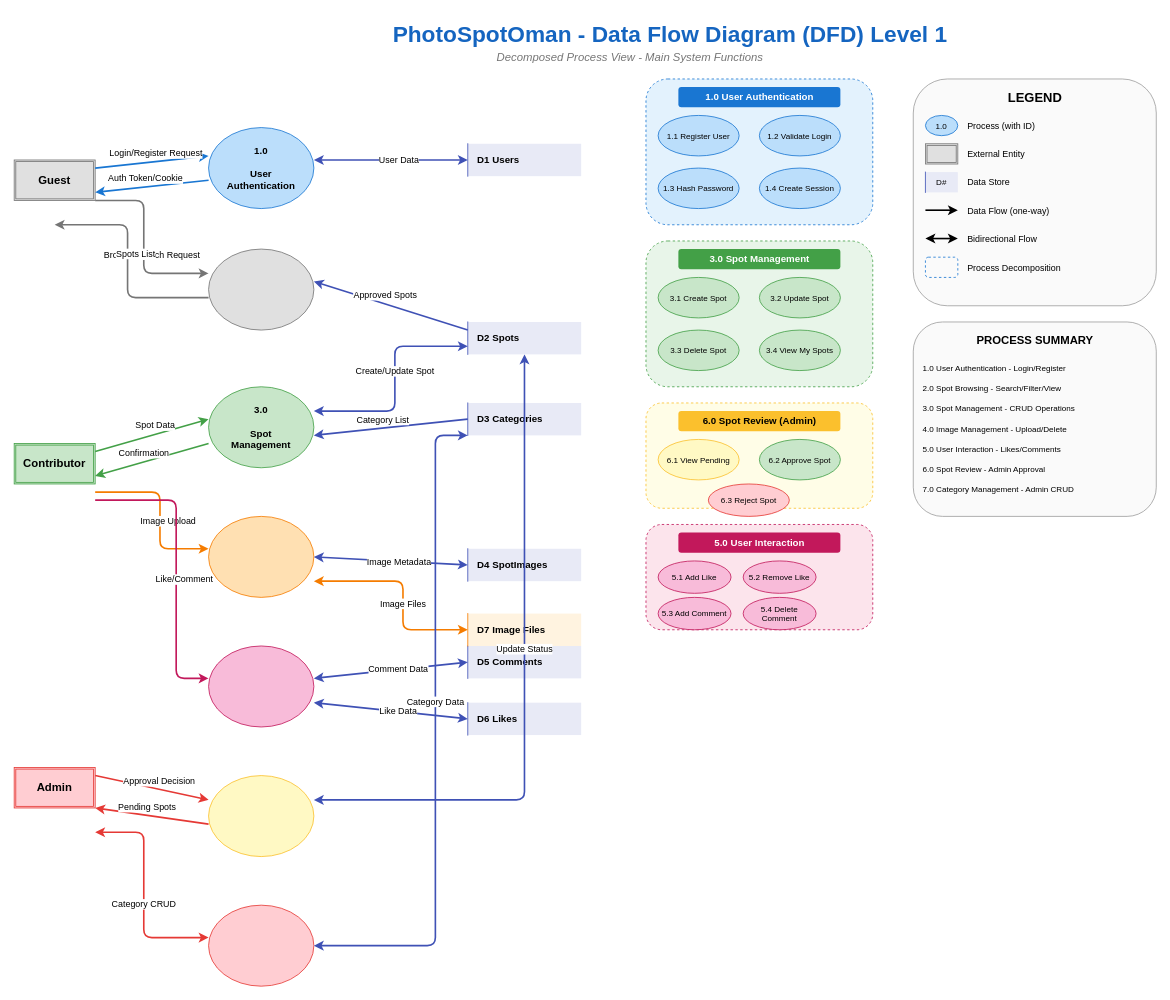
Image size: 1170x1000. Some labels were removed from this diagram. Each missing label, with the centre of its shape:
2.0 Spot Browsing: the point at 261,289
4.0 Image Management: the point at 261,556
5.0 User Interaction (Likes/Comments): the point at 261,686
6.0 Spot Review: the point at 261,816
7.0 Category Management: the point at 261,945
